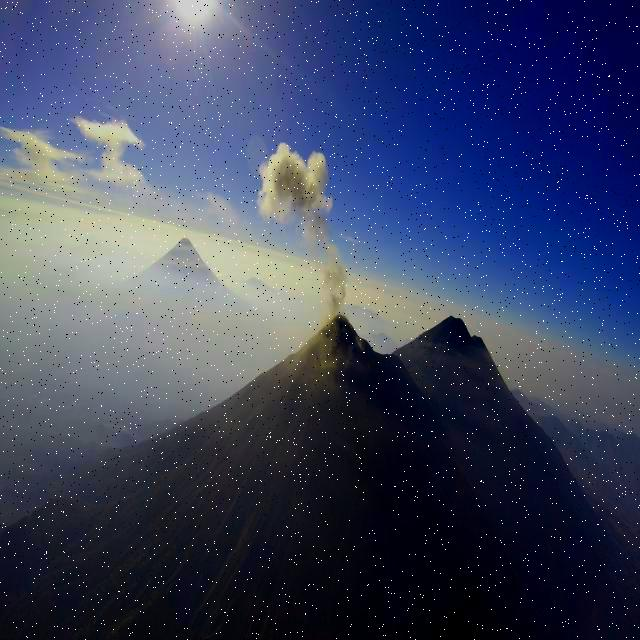Plume: (256, 142, 336, 232)
Summit: (266, 312, 408, 388)
